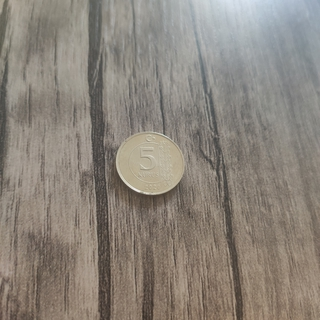5KURUS: (114, 130, 186, 196)
